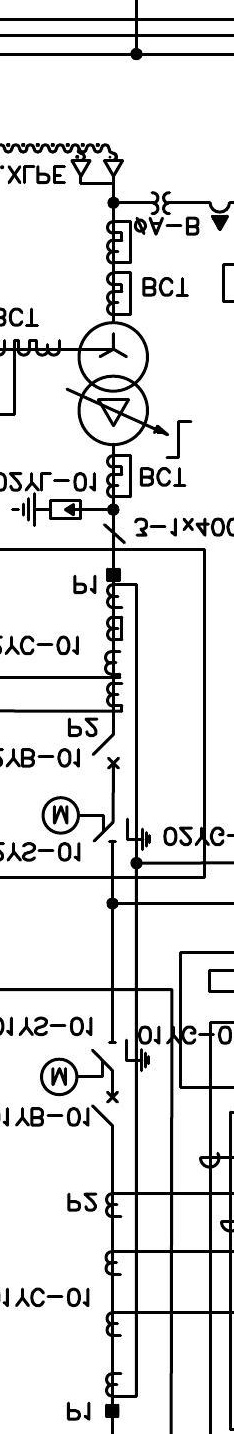11522_tx_dyn1: (77, 320, 150, 447)
115_3ways_ds_w_motor: (39, 1038, 151, 1097), (40, 795, 152, 852)
115_breaker: (90, 1090, 120, 1127), (91, 733, 121, 770)
115_la: (10, 491, 83, 528)
terminator_double: (70, 159, 124, 186)
